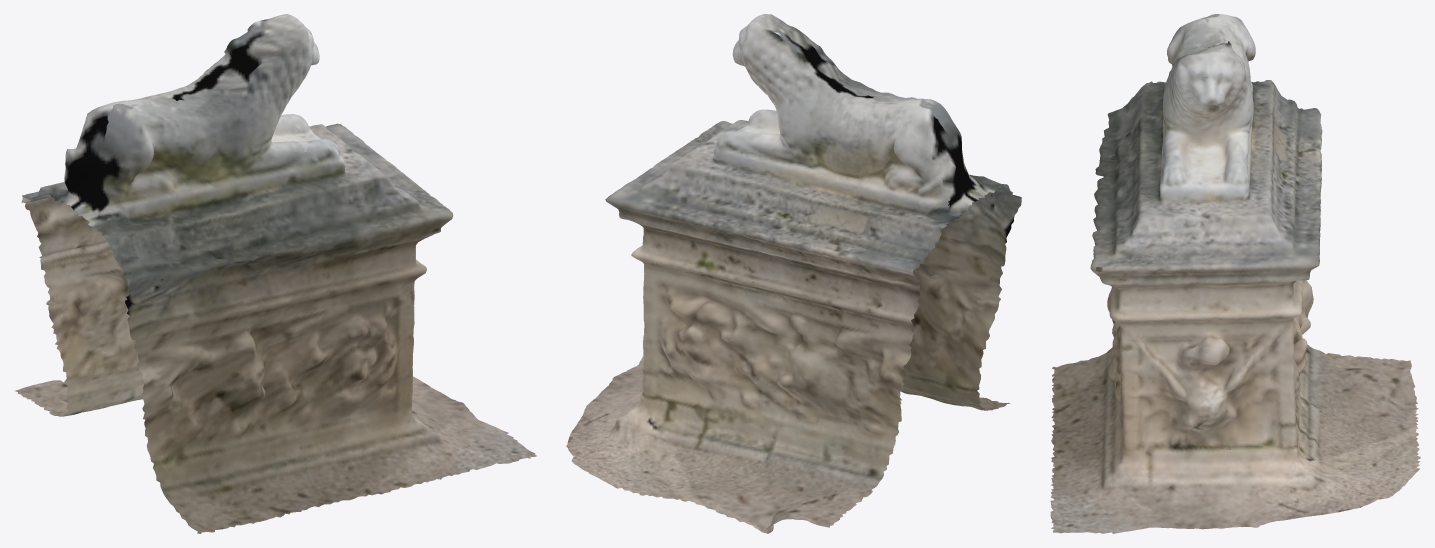
File: sculpture_f13b94e0.glb
3 renders of one model, left to right at view 1: azimuth 30°, elevation 25°; view 2: azimuth 150°, elevation 25°; view 3: azimuth 270°, elevation 25°, orthographic. The views are drawn at different scales.
Visible parts, largest first — view 1: Object_2; view 2: Object_2; view 3: Object_2.
Boxes of the visible parts, x1,y1,x2,y2 form: Object_2: (15,14,536,533); Object_2: (566,14,1021,533); Object_2: (1050,14,1420,533).
Bounding box in the file's own units: 1.54 × 1.6 × 1.31.
1 material, 1 textured.
